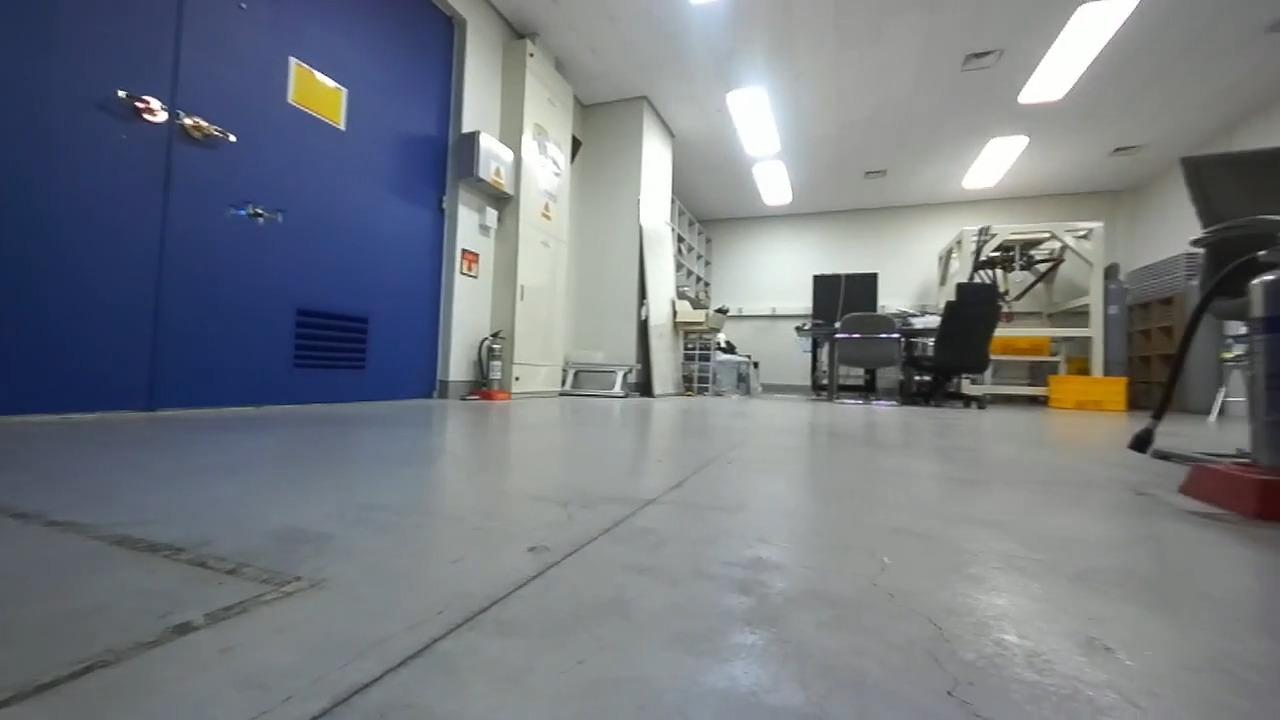crazyflie: (220, 198, 286, 228)
